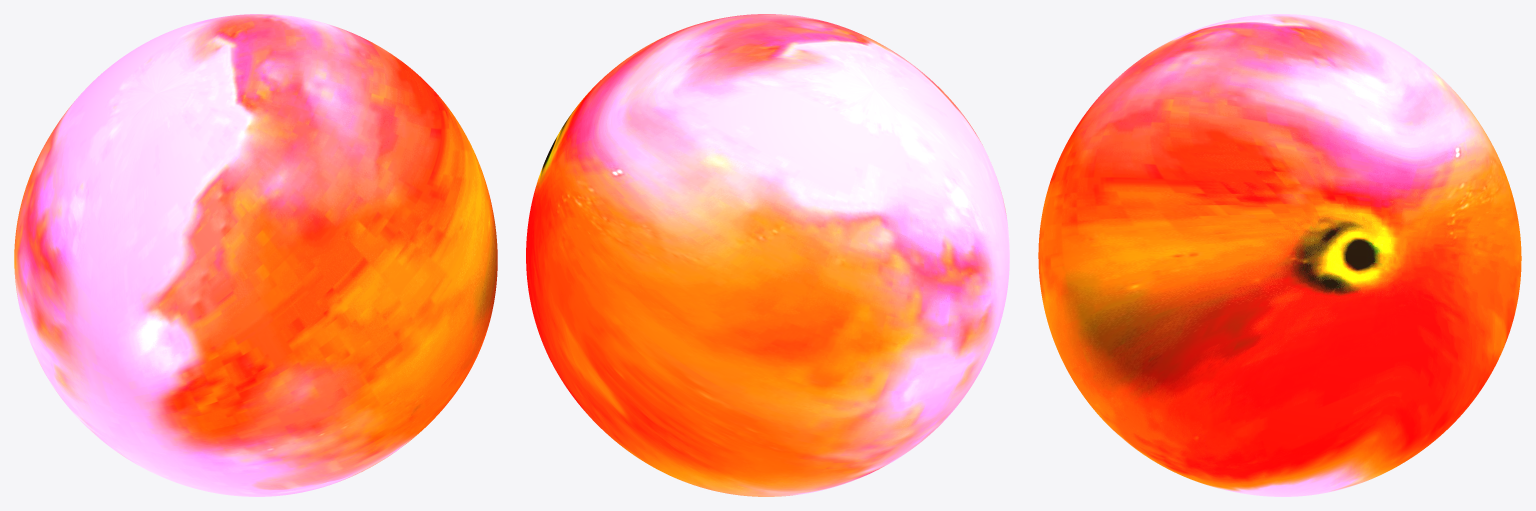
File: Salmon-Egg-Fixed-Spec-Ver-1.gltf
3 renders of one model, left to right at view 1: azimuth 30°, elevation 25°; view 2: azimuth 150°, elevation 25°; view 3: azimuth 270°, elevation 25°, orthographic.
Parts seen in each view (by area): view 1: Fish; view 2: Fish; view 3: Fish.
Boxes of the visible parts, <box> form: Fish: <box>14,14,497,496</box>; Fish: <box>526,14,1009,496</box>; Fish: <box>1038,14,1521,496</box>.
Size of what is drawn, in the model's own units: 137 by 137 by 137.
2 materials, 1 textured.
